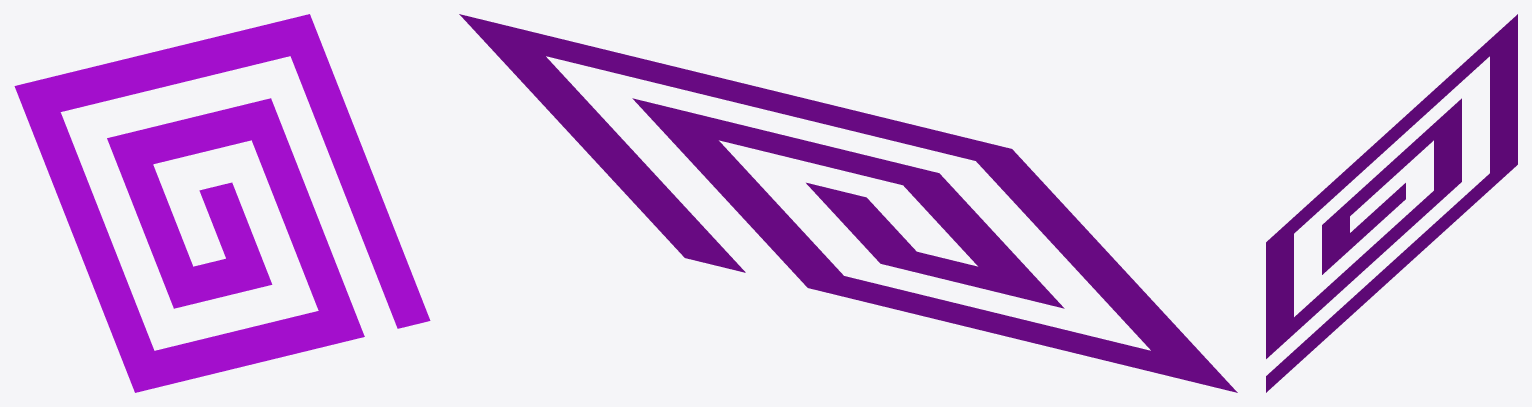
Rendered from spiral.obj.
The picture shows the model from 3 angles, left to right: view 1: azimuth 30°, elevation 25°; view 2: azimuth 150°, elevation 25°; view 3: azimuth 270°, elevation 25°; orthographic projection. The views are drawn at different scales.
Visible parts, largest first — view 1: Grid; view 2: Grid; view 3: Grid.
Part boxes in pixels (left/top/right/bottom): Grid: left=14, top=14, right=430, bottom=392; Grid: left=459, top=14, right=1237, bottom=392; Grid: left=1266, top=14, right=1517, bottom=392.
Bounding box in the file's own units: 2 × 1.41 × 1.41.
